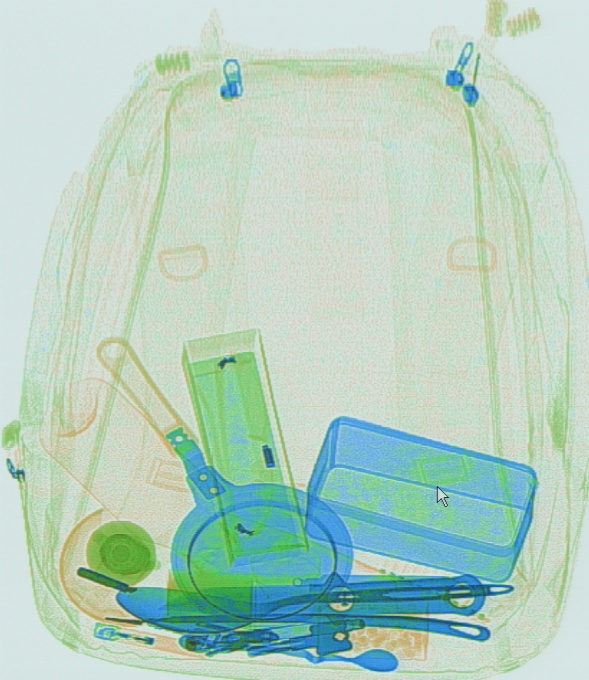knife: (156, 568, 483, 622)
lighter: (90, 620, 204, 659)
